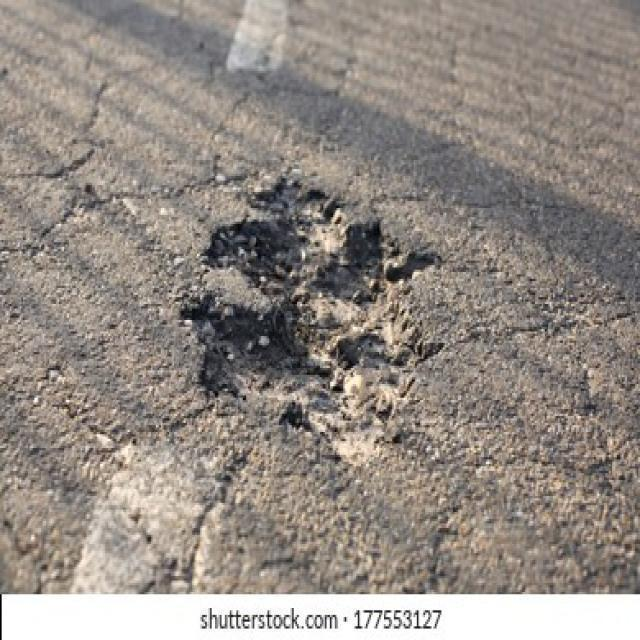pothole: (186, 178, 444, 464)
